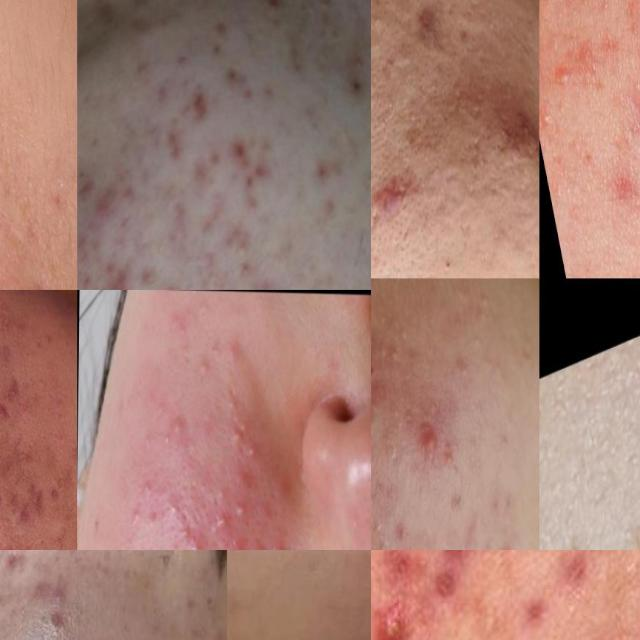acne_scars: (371, 140, 436, 220), (484, 84, 540, 174), (406, 0, 462, 42), (0, 431, 33, 488), (91, 255, 138, 290)
comedone: (225, 223, 258, 266), (468, 281, 501, 324), (371, 509, 391, 550), (163, 588, 184, 622), (451, 352, 471, 387), (339, 508, 362, 536), (373, 308, 394, 335), (152, 394, 170, 424), (172, 318, 190, 345), (165, 494, 181, 524), (253, 496, 271, 522), (157, 427, 175, 452), (396, 318, 411, 347), (198, 354, 212, 385), (140, 473, 154, 495), (371, 408, 382, 436), (389, 342, 402, 364), (196, 297, 210, 317), (128, 503, 140, 524)
flat_wart: (625, 505, 640, 550)
papule: (416, 550, 488, 613), (405, 408, 452, 469), (0, 550, 23, 588), (174, 514, 196, 546), (211, 477, 231, 508), (46, 612, 68, 639), (270, 474, 288, 502), (236, 466, 254, 493), (169, 410, 185, 440), (224, 336, 240, 364)
pustule: (371, 601, 420, 640), (490, 526, 521, 550), (230, 413, 248, 448), (212, 508, 230, 537), (232, 496, 249, 520), (242, 438, 256, 463), (245, 533, 263, 550), (267, 534, 284, 550), (187, 535, 204, 550)
